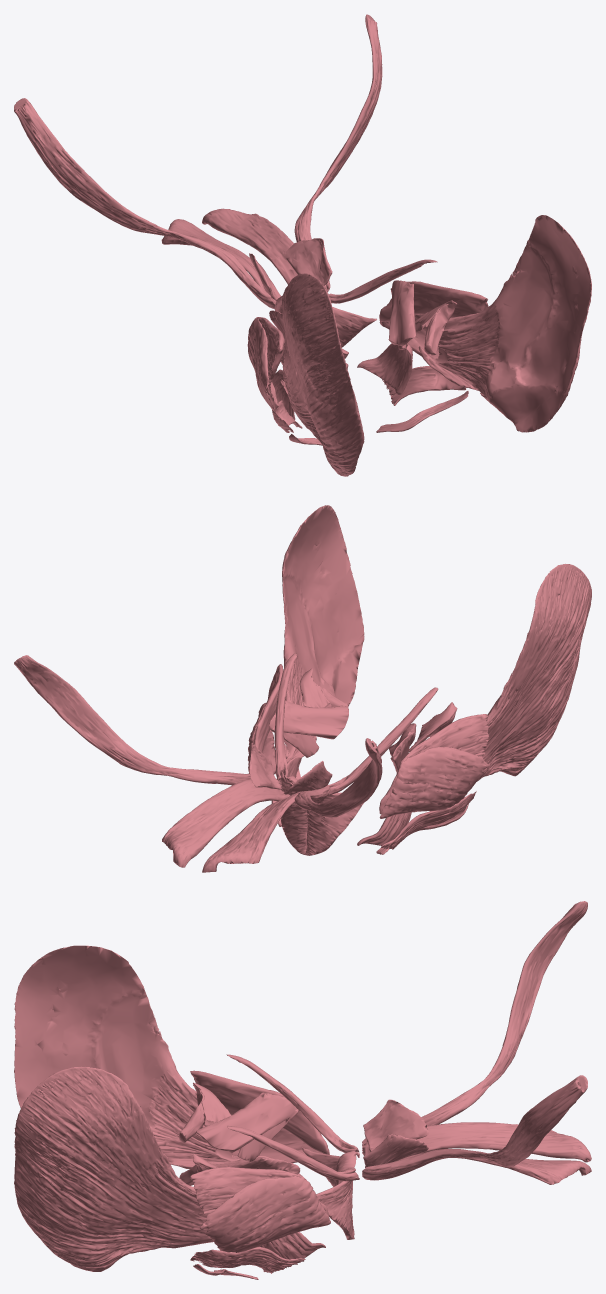
Rendered from muscles.glb.
3 renders of one model, top to bottom at view 1: azimuth 30°, elevation 25°; view 2: azimuth 150°, elevation 25°; view 3: azimuth 270°, elevation 25°, orthographic. The views are drawn at different scales.
Visible parts, largest first — view 1: temporal_muscle_gauche, temporal_muscle_droit, omohyoidien_droit, sternohyoidien_gauche, omohyoidien_gauche, masseter_superficiel_gauche, buccinateur_gauche, pterygoidien_medial_gauche, thyrohyoidien_gauche, masseter_profond_droit, sternohyoidien_droit, zygomaticus_major_gauche (+5 smaller); view 2: temporal_muscle_gauche, temporal_muscle_droit, omohyoidien_gauche, masseter_profond_droit, sternohyoidien_gauche, pterygoidien_medial_gauche, sternohyoidien_droit, omohyoidien_droit, masseter_superficiel_droit, mylohyoidien_droit, stylohyoidien_droit, stylohyoidien_gauche (+10 smaller); view 3: temporal_muscle_gauche, temporal_muscle_droit, masseter_profond_gauche, omohyoidien_droit, omohyoidien_gauche, sternohyoidien_droit, pterygoidien_medial_droit, masseter_superficiel_droit, masseter_superficiel_gauche, thyrohyoidien_droit, zygomaticus_major_gauche, sternohyoidien_gauche (+9 smaller).
Part boxes in pixels (x1,y1,x2,y2): temporal_muscle_gauche: (418, 215, 591, 432); temporal_muscle_droit: (280, 273, 364, 476); omohyoidien_droit: (14, 98, 274, 308); sternohyoidien_gauche: (202, 208, 327, 291); omohyoidien_gauche: (294, 14, 382, 292); masseter_superficiel_gauche: (379, 281, 488, 321); buccinateur_gauche: (357, 343, 412, 394); pterygoidien_medial_gauche: (388, 280, 416, 349); thyrohyoidien_gauche: (283, 238, 332, 285); masseter_profond_droit: (247, 317, 278, 411); sternohyoidien_droit: (161, 219, 281, 304); zygomaticus_major_gauche: (382, 366, 467, 405); temporal_muscle_gauche: (282, 505, 364, 762); temporal_muscle_droit: (477, 564, 591, 781); omohyoidien_gauche: (14, 655, 250, 785); masseter_profond_droit: (379, 746, 488, 818); sternohyoidien_gauche: (162, 779, 290, 867); pterygoidien_medial_gauche: (269, 701, 348, 757); sternohyoidien_droit: (202, 791, 304, 872); omohyoidien_droit: (294, 738, 382, 817); masseter_superficiel_droit: (379, 714, 489, 814); mylohyoidien_droit: (305, 792, 363, 855); stylohyoidien_droit: (327, 687, 438, 795); stylohyoidien_gauche: (274, 653, 297, 785); temporal_muscle_gauche: (14, 1066, 213, 1271); temporal_muscle_droit: (14, 945, 259, 1168); masseter_profond_gauche: (200, 1176, 330, 1252); omohyoidien_droit: (362, 901, 587, 1154); omohyoidien_gauche: (362, 1075, 587, 1180); sternohyoidien_droit: (362, 1122, 591, 1167); pterygoidien_medial_droit: (196, 1092, 298, 1160); masseter_superficiel_droit: (190, 1070, 328, 1154); masseter_superficiel_gauche: (190, 1167, 328, 1215); thyrohyoidien_droit: (363, 1099, 428, 1151); zygomaticus_major_gauche: (190, 1247, 305, 1273); sternohyoidien_gauche: (365, 1153, 591, 1184).
Bounding box in the file's own units: 200 × 140 × 264.
